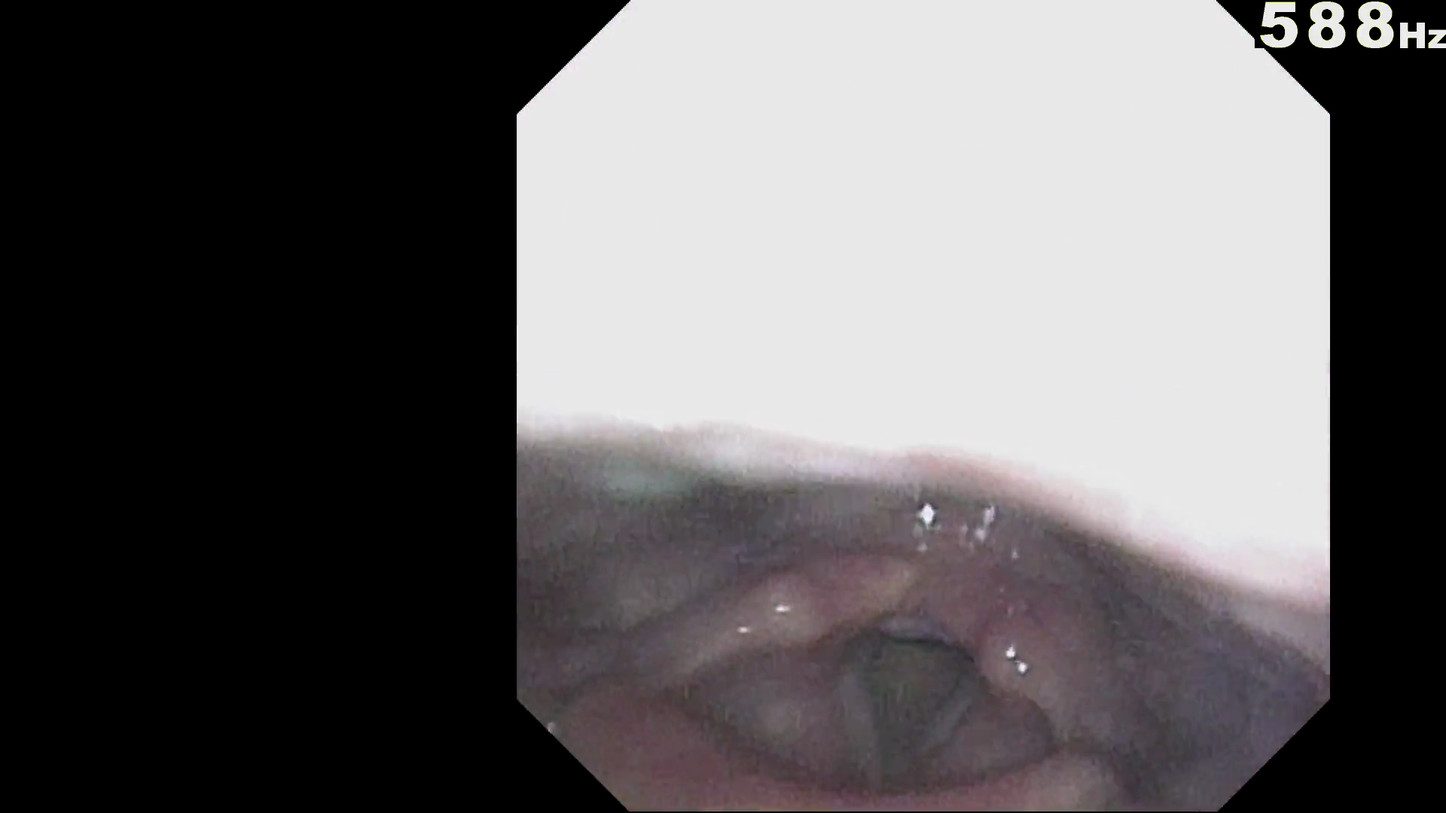trachea: (859, 597, 983, 751)
